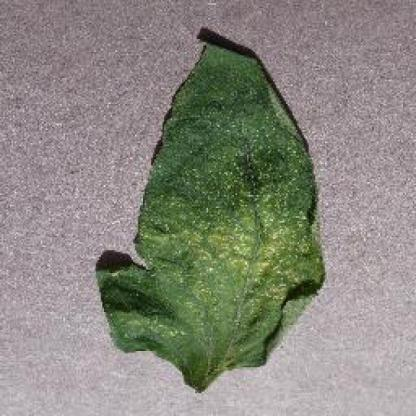Tomato_Spider_Mites: (96, 41, 325, 388)
